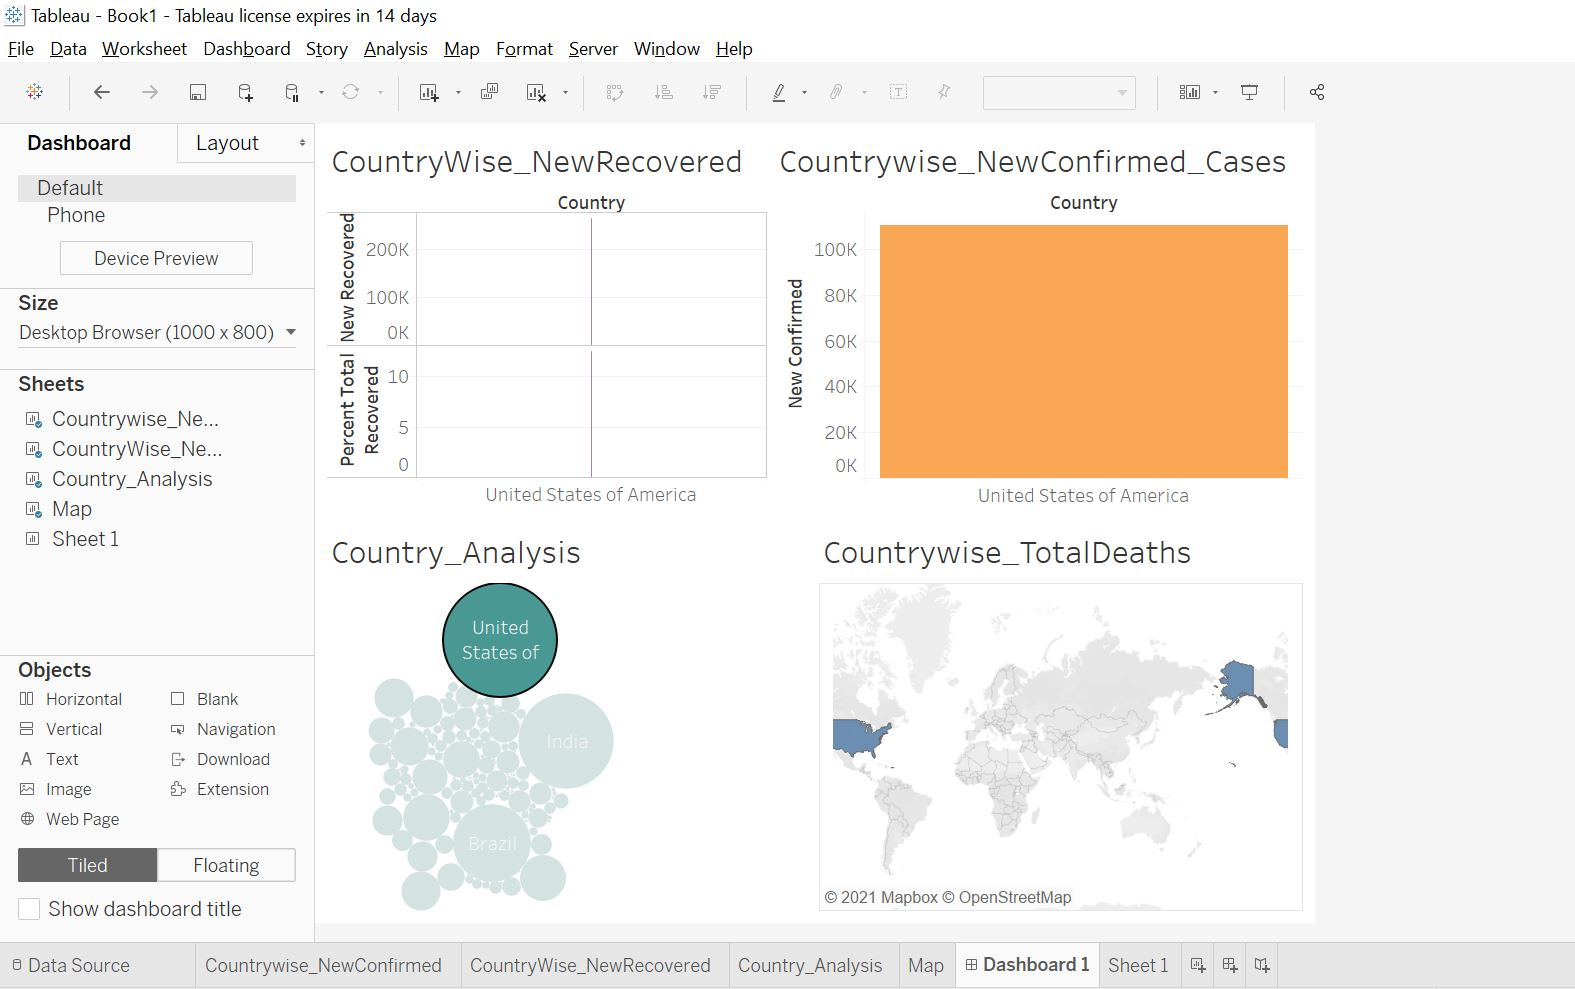

This screenshot's page, from the dashboard's own definition file:
{"tool":"tableau","page":{"name":"Dashboard 1","canvas":[1000,800],"ordinal":0},"visuals":[{"type":"worksheet","box":[0,0,1000,800]},{"type":"worksheet","param":"horz","box":[8,8,984,784]},{"type":"worksheet","param":"horz","box":[8,8,984,784]},{"type":"worksheet","box":[8,8,984,784]},{"type":"worksheet","param":"vert","box":[8,8,984,391.2]},{"type":"worksheet","param":"horz","box":[8,8,984,391.2]},{"type":"worksheet","box":[8,8,984,391.2]},{"type":"worksheet","title":"CountryWise_NewRecovered","mark":"Area","rows":["NewRecovered","Percent_Total_Recovered"],"cols":["Country"],"box":[8,8,448,391.2]},{"type":"worksheet","title":"Countrywise_NewConfirmed","mark":"Automatic","rows":["NewConfirmed"],"cols":["Country"],"box":[456,8,536,391.2]},{"type":"worksheet","title":"Country_Analysis","mark":"Circle","box":[8,399.2,492,392.8]},{"type":"worksheet","title":"Map","mark":"Multipolygon","box":[500,399.2,492,392.8]}]}

Visuals, with their boxes on the page's 1000x800 design canvas (x1, y1, x2, y2). These are canvas units, not pixel positions in the 1575x989 screenshot, which may show the page scaled, cropped or inside an application window:
worksheet: pyautogui.locateOnScreen(0, 0, 1000, 800)
worksheet: pyautogui.locateOnScreen(8, 8, 992, 792)
worksheet: pyautogui.locateOnScreen(8, 8, 992, 792)
worksheet: pyautogui.locateOnScreen(8, 8, 992, 792)
worksheet: pyautogui.locateOnScreen(8, 8, 992, 399)
worksheet: pyautogui.locateOnScreen(8, 8, 992, 399)
worksheet: pyautogui.locateOnScreen(8, 8, 992, 399)
"CountryWise_NewRecovered" worksheet (Area marks): pyautogui.locateOnScreen(8, 8, 456, 399)
"Countrywise_NewConfirmed" worksheet: pyautogui.locateOnScreen(456, 8, 992, 399)
"Country_Analysis" worksheet (Circle marks): pyautogui.locateOnScreen(8, 399, 500, 792)
"Map" worksheet (Multipolygon marks): pyautogui.locateOnScreen(500, 399, 992, 792)
